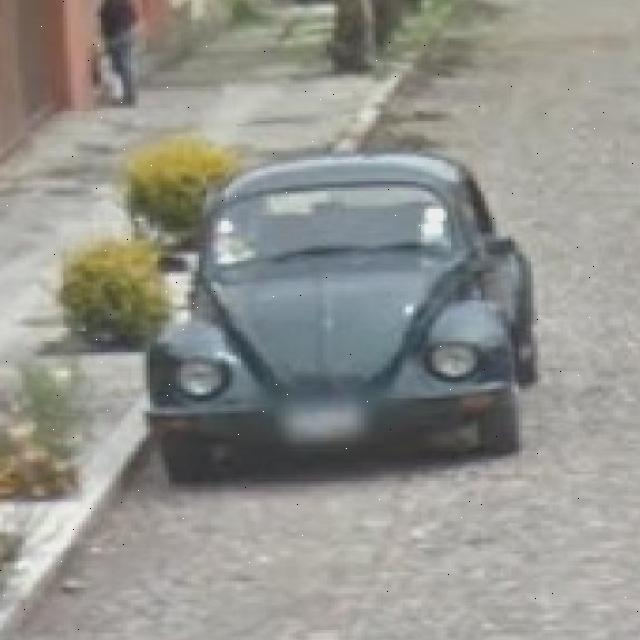car: (178, 152, 538, 466)
